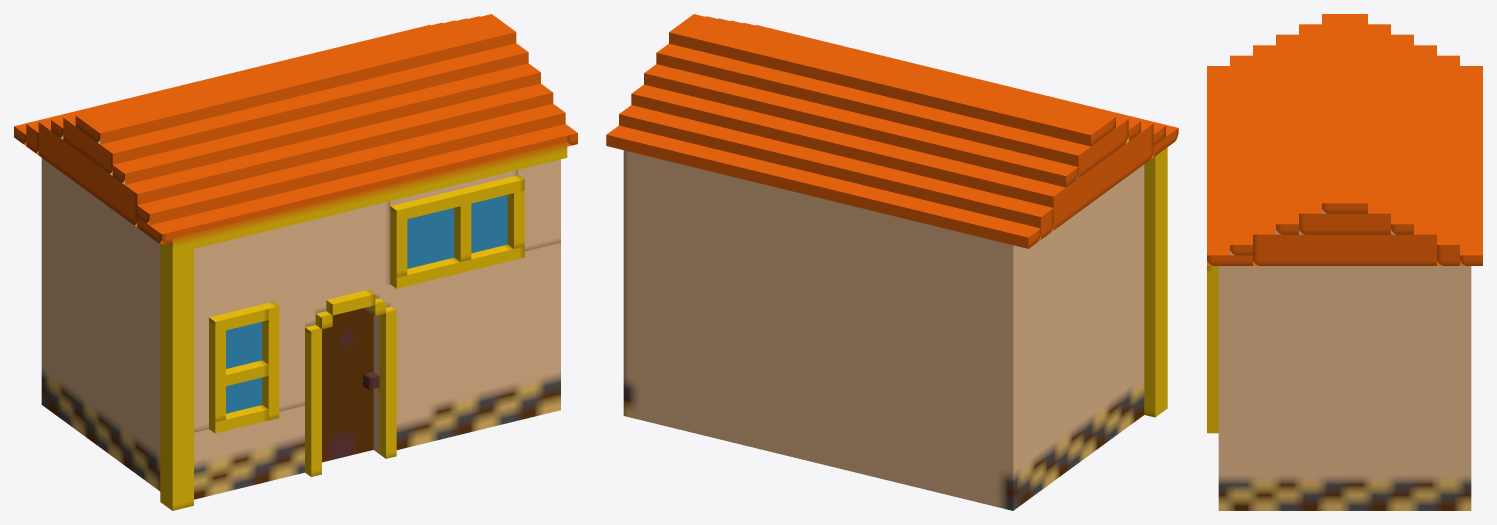
Rendered from HouseDAE.dae.
3 renders of one model, left to right at view 1: azimuth 30°, elevation 25°; view 2: azimuth 150°, elevation 25°; view 3: azimuth 270°, elevation 25°, orthographic. The views are drawn at different scales.
Visible parts, largest first — view 1: House-local; view 2: House-local; view 3: House-local.
Boxes of the visible parts, x1=… form: House-local: x1=14, y1=14, x2=577, y2=510; House-local: x1=606, y1=14, x2=1178, y2=510; House-local: x1=1207, y1=14, x2=1482, y2=510.
Bounding box in the file's own units: 39 × 30 × 24.
1 material, 1 textured.
